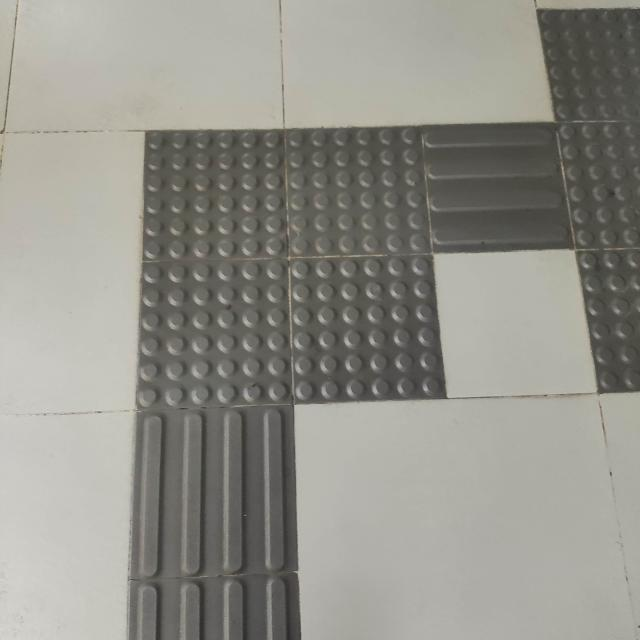kanan: (109, 96, 575, 463)
